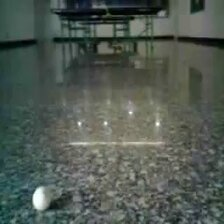w: (32, 186, 51, 212)
